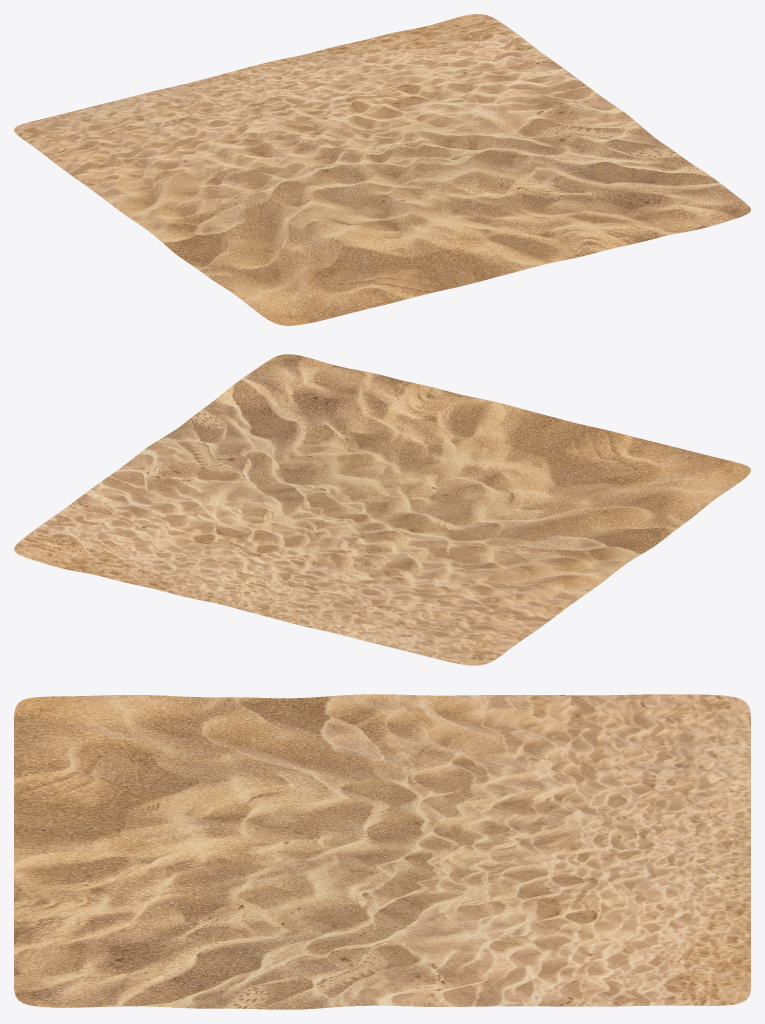
The model's file is sand.obj.
3 views of the same model, one above another, from view 1: azimuth 30°, elevation 25°; view 2: azimuth 150°, elevation 25°; view 3: azimuth 270°, elevation 25° (orthographic). The views are drawn at different scales.
Parts seen in each view (by area): view 1: Beach_Plane; view 2: Beach_Plane; view 3: Beach_Plane.
Boxes of the visible parts, bbox=[...] form: Beach_Plane: bbox=[14, 14, 750, 325]; Beach_Plane: bbox=[14, 354, 750, 665]; Beach_Plane: bbox=[14, 694, 750, 1009].
Bounding box in the file's own units: 15.84 × 0.1632 × 15.84.
Materials: 2 (1 with a texture image).
